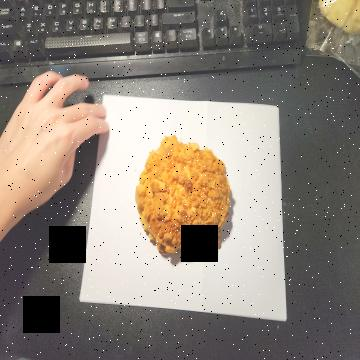soboru_bread: (136, 132, 231, 262)
